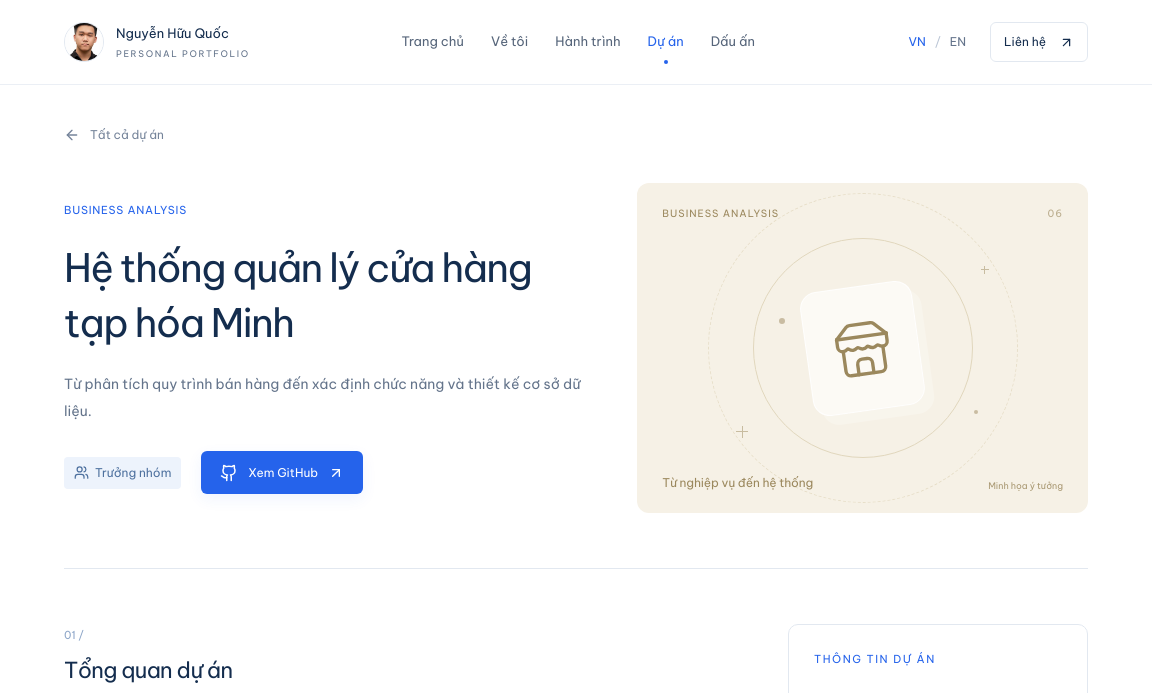
Test: case study routes and content authenticity › opens minh-grocery with the confirmed role and real source link
Expected: the heading "Hệ thống quản lý cửa hàng tạp hóa Minh" is shown, top-left (64, 241), bottom-right (582, 351)
Step 1. Click the button named "English" → (958, 42), box top-left (948, 22), bottom-right (968, 62)
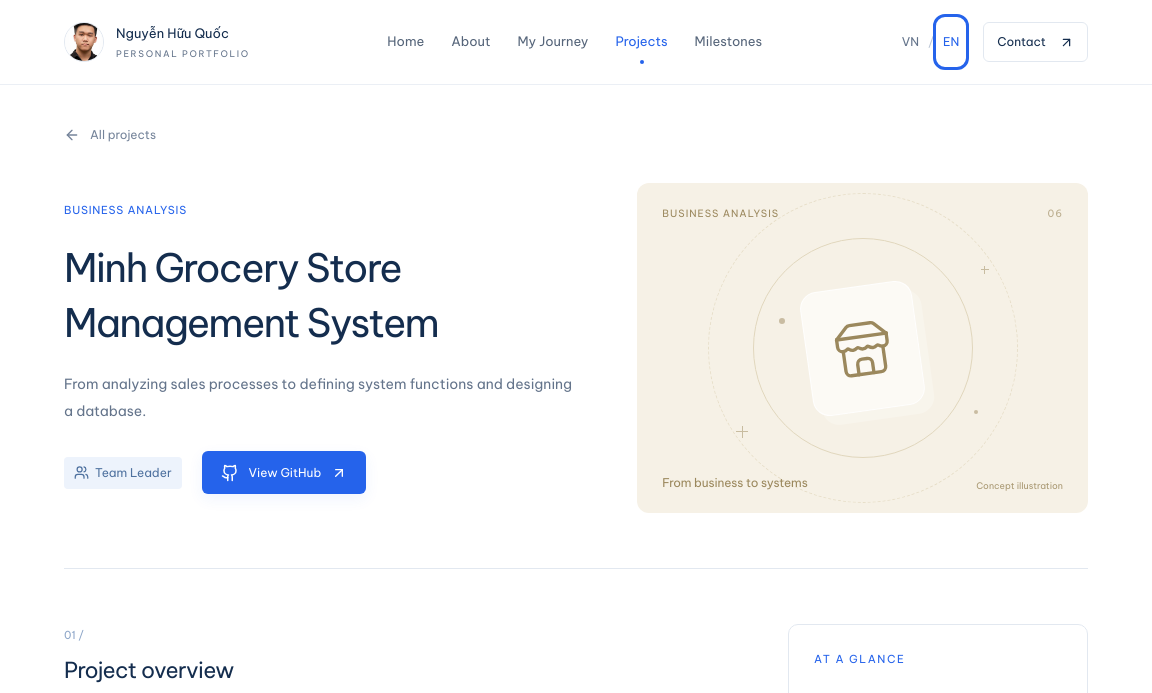
Expected: the heading "Minh Grocery Store Management System" is shown, top-left (64, 243), bottom-right (438, 347)
Expected: the heading "Project overview" is shown, top-left (64, 656), bottom-right (234, 684)
Expected: the text "Team Leader" is shown, top-left (64, 457), bottom-right (182, 489)
